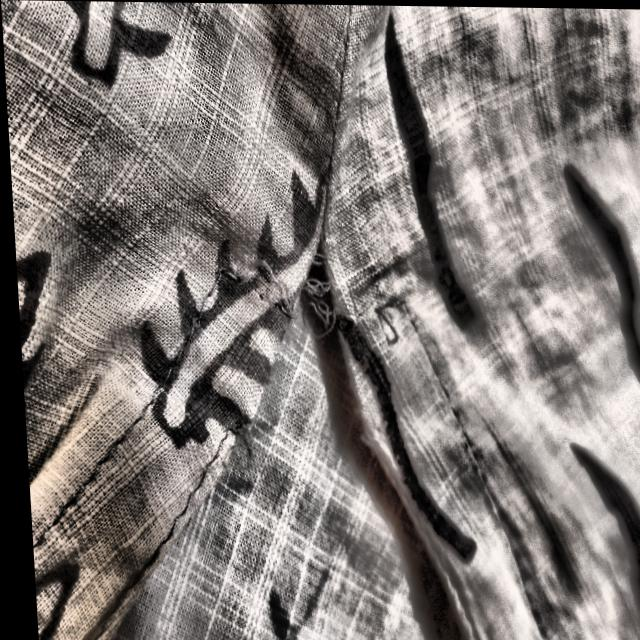Stitch: (202, 251, 379, 339)
